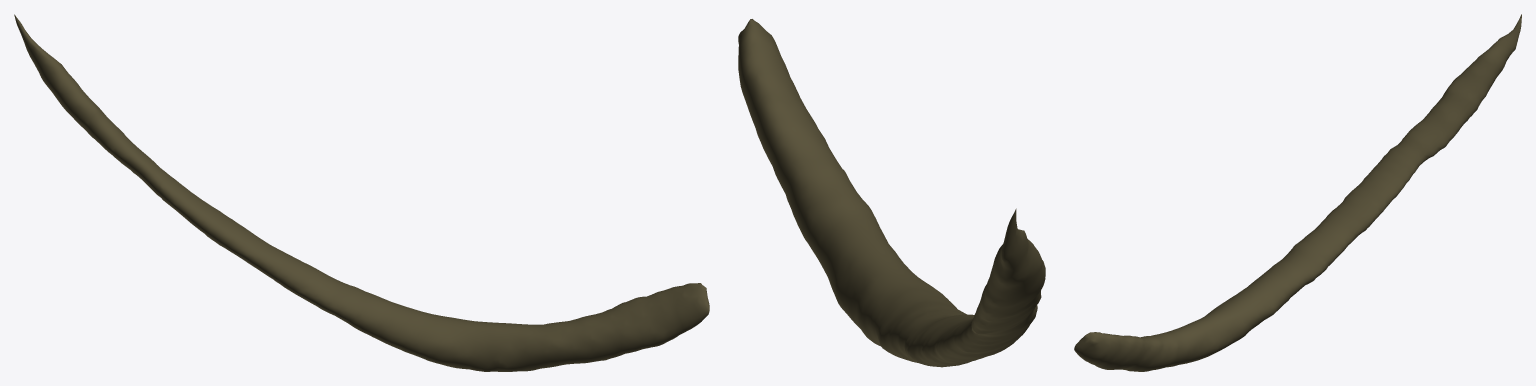
Rendered from segmentations_rib_left_11.obj.
3 renders of one model, left to right at view 1: azimuth 30°, elevation 25°; view 2: azimuth 150°, elevation 25°; view 3: azimuth 270°, elevation 25°, orthographic. The views are drawn at different scales.
Visible parts, largest first — view 1: grp1; view 2: grp1; view 3: grp1.
Part boxes in pixels (x1,y1,x2,y2): grp1: (14, 14, 709, 371); grp1: (738, 19, 1045, 367); grp1: (1074, 14, 1521, 371).
Bounding box in the file's own units: 64.02 × 39.79 × 70.37.
